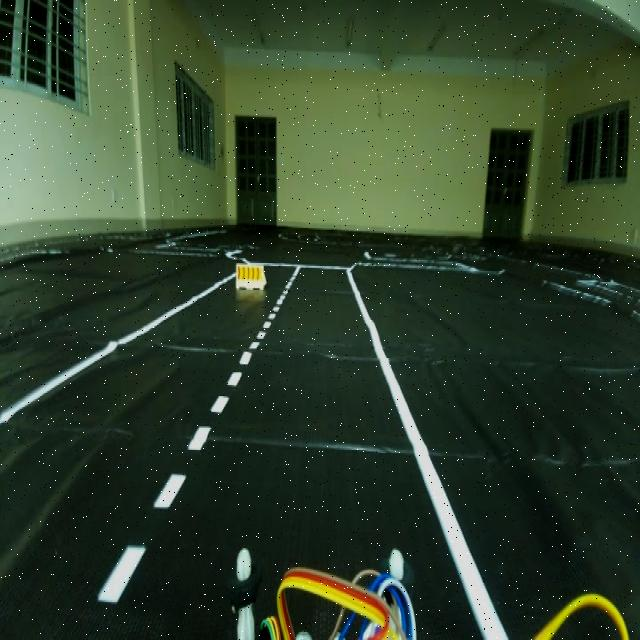roadblock: (232, 258, 268, 289)
